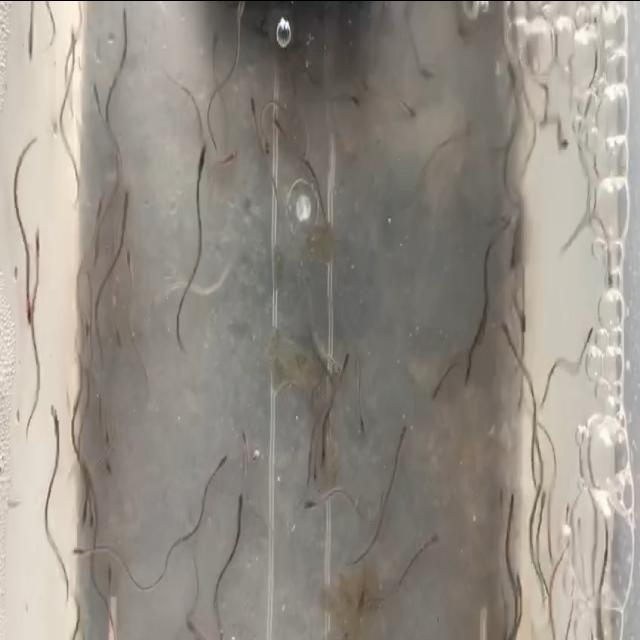active_glass_eel: (398, 86, 424, 138), (502, 476, 526, 532), (331, 336, 352, 391), (350, 572, 370, 626), (270, 98, 300, 134), (202, 18, 226, 60), (223, 130, 242, 180), (297, 474, 313, 530), (460, 349, 480, 392), (554, 124, 576, 162), (88, 74, 111, 110), (426, 368, 442, 417), (102, 401, 118, 448), (427, 520, 445, 560), (21, 40, 38, 82), (110, 322, 126, 366), (419, 45, 435, 89), (243, 94, 265, 125), (18, 291, 36, 327), (34, 213, 52, 249), (231, 478, 248, 516), (511, 556, 528, 594), (395, 412, 411, 452), (534, 483, 552, 513), (345, 77, 360, 112), (582, 316, 594, 359), (122, 174, 134, 214), (194, 142, 210, 172), (121, 240, 138, 266), (117, 0, 135, 24), (218, 446, 230, 482), (66, 544, 80, 574), (68, 27, 80, 59), (100, 562, 116, 586), (493, 324, 518, 339), (48, 411, 60, 439), (262, 134, 274, 162), (76, 503, 88, 528), (104, 453, 115, 478), (318, 448, 332, 460)
